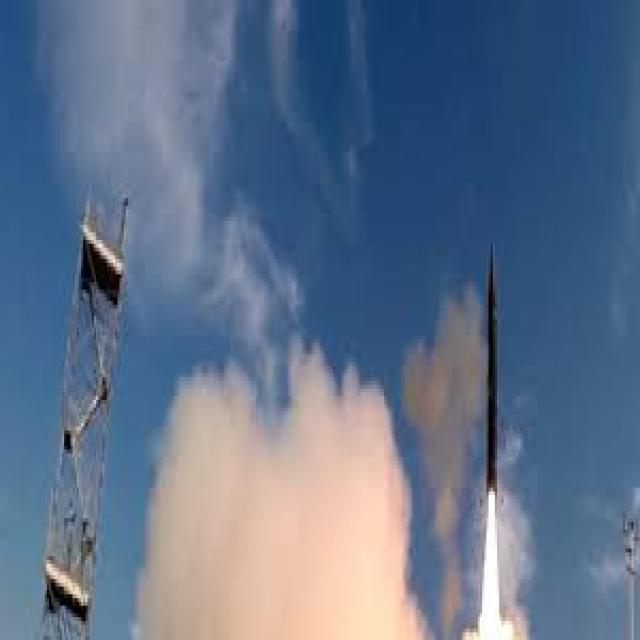missile: (474, 247, 504, 509)
